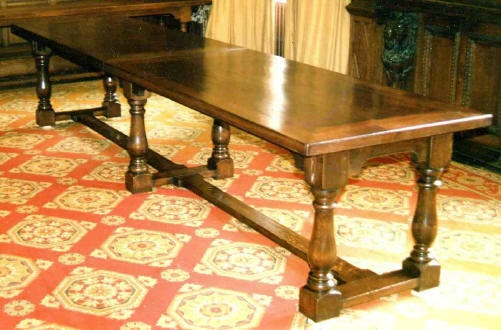obstacle: (9, 16, 491, 320)
